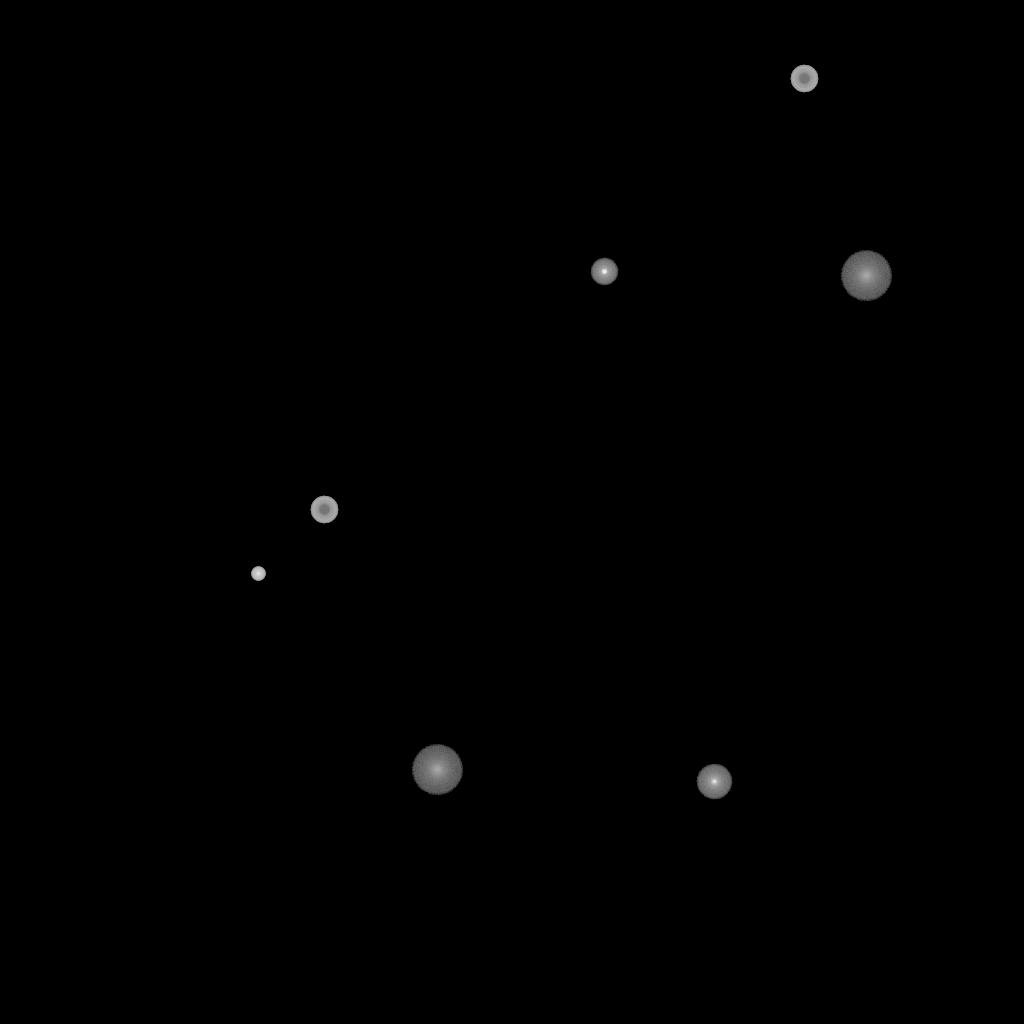depth:-10: (590, 258, 618, 286)
depth:-30: (251, 567, 265, 581)
depth:-50: (790, 65, 818, 93), (310, 496, 338, 524)
depth:0: (696, 764, 732, 800)
depth:20: (840, 251, 892, 301), (411, 745, 463, 795)
